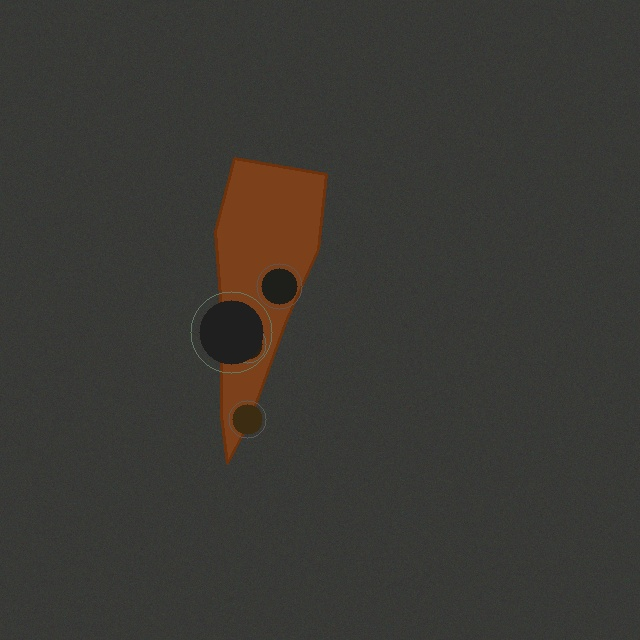Rotten_Carrot: (207, 150, 334, 471)
